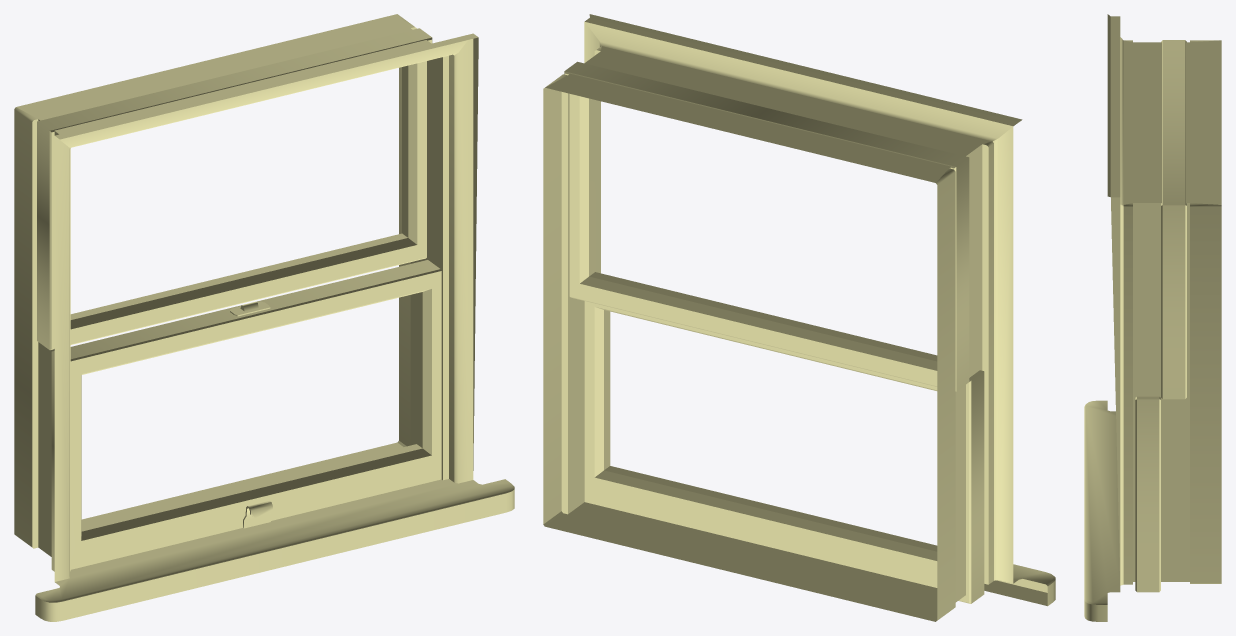
Rendered from 5_material4_finestra.fbx.
3 views of the same model, side by side, from view 1: azimuth 30°, elevation 25°; view 2: azimuth 150°, elevation 25°; view 3: azimuth 270°, elevation 25° (orthographic). The views are drawn at different scales.
Parts seen in each view (by area): view 1: 5_material22/4_finestra; view 2: 5_material22/4_finestra; view 3: 5_material22/4_finestra.
Boxes of the visible parts, x1=… form: 5_material22/4_finestra: x1=14, y1=14, x2=514, y2=621; 5_material22/4_finestra: x1=543, y1=14, x2=1055, y2=621; 5_material22/4_finestra: x1=1084, y1=14, x2=1221, y2=621.
Bounding box in the file's own units: 1069 × 1016 × 305.
